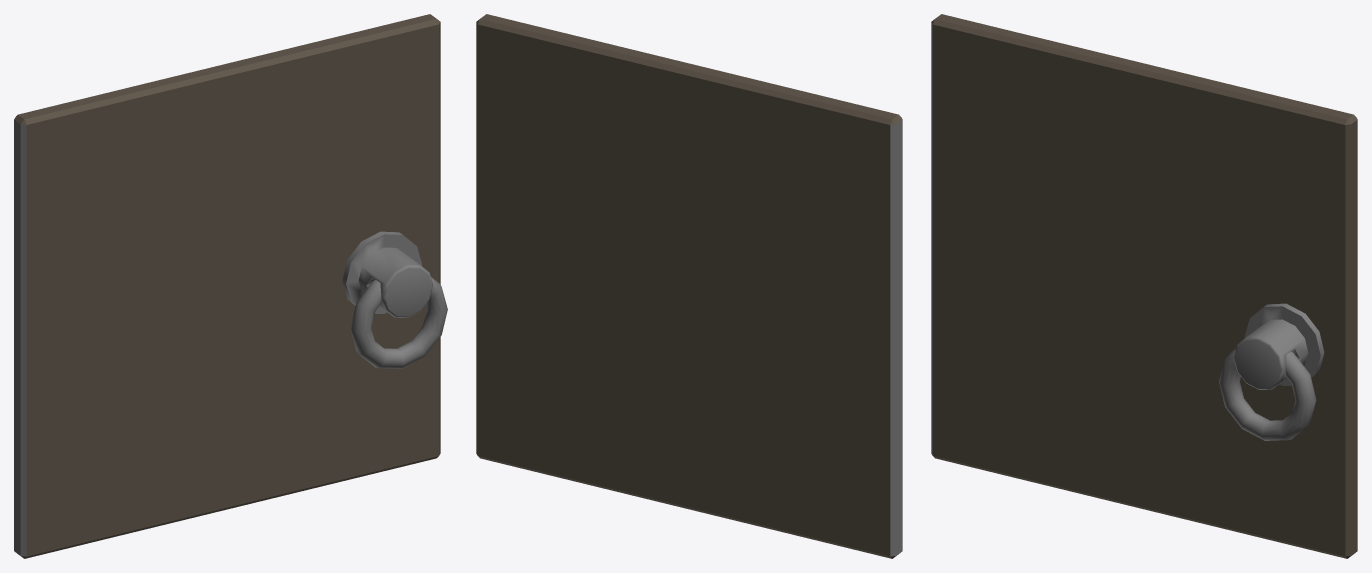
Rendered from alcapao.fbx.
3 views of the same model, side by side, from view 1: azimuth 30°, elevation 25°; view 2: azimuth 150°, elevation 25°; view 3: azimuth 330°, elevation 25° (orthographic).
Parts seen in each view (by area): view 1: pCube5, pCylinder5, pTorus3; view 2: pCube5; view 3: pCube5, pCylinder5, pTorus3.
Part boxes in pixels (bbox=[...]): pCube5: bbox=[14, 14, 440, 558]; pCylinder5: bbox=[342, 231, 432, 317]; pTorus3: bbox=[350, 277, 447, 368]; pCube5: bbox=[476, 14, 902, 558]; pCube5: bbox=[931, 14, 1357, 558]; pCylinder5: bbox=[1234, 303, 1324, 389]; pTorus3: bbox=[1219, 348, 1316, 440].
Size of the model in its own units: 259 by 259 by 42.3.
